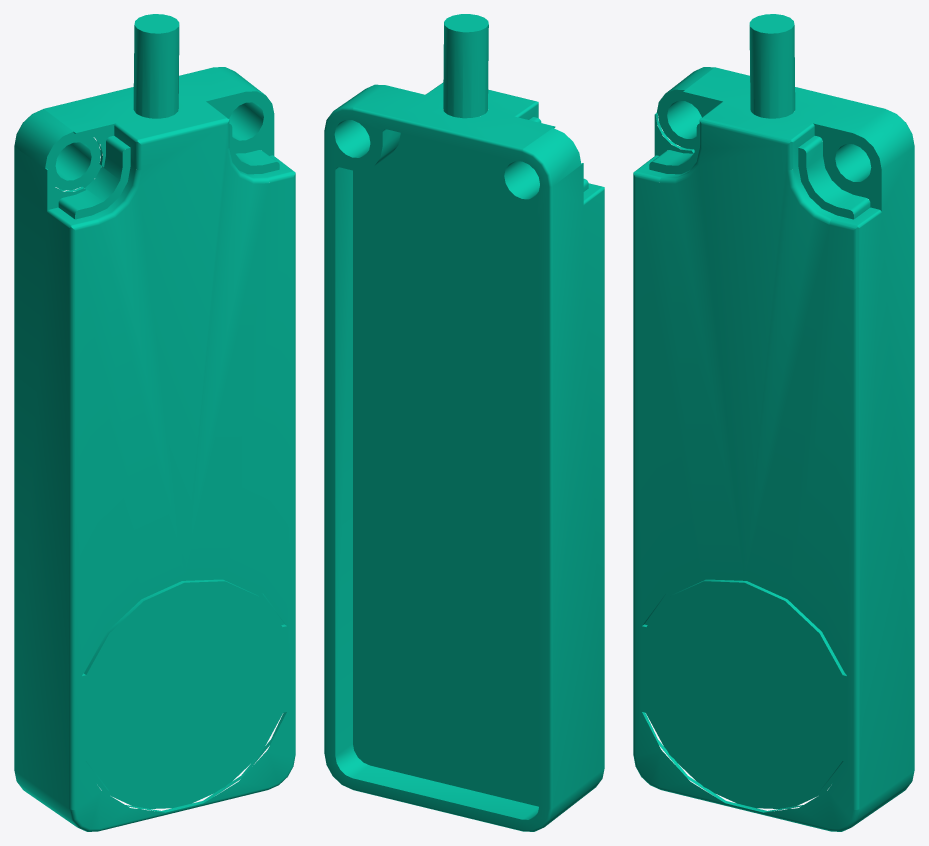
3 renders of one model, left to right at view 1: azimuth 30°, elevation 25°; view 2: azimuth 150°, elevation 25°; view 3: azimuth 330°, elevation 25°, orthographic.
Visible parts, largest first — view 1: _Read_write_stati10006412_0; view 2: _Read_write_stati10006412_0; view 3: _Read_write_stati10006412_0.
Part boxes in pixels (x1,y1,x2,y2): _Read_write_stati10006412_0: (14, 14, 295, 831); _Read_write_stati10006412_0: (324, 14, 604, 831); _Read_write_stati10006412_0: (633, 14, 914, 831).
Bounding box in the file's own units: 27.99 × 89.93 × 12.
